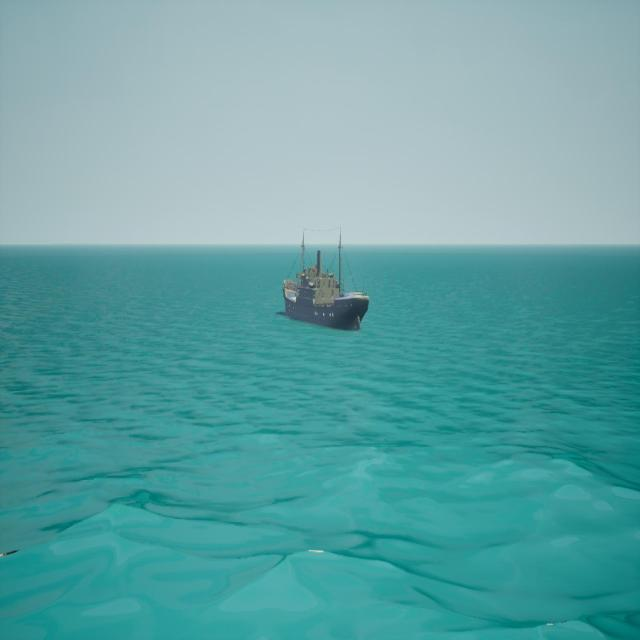fishing ship: (279, 229, 372, 331)
